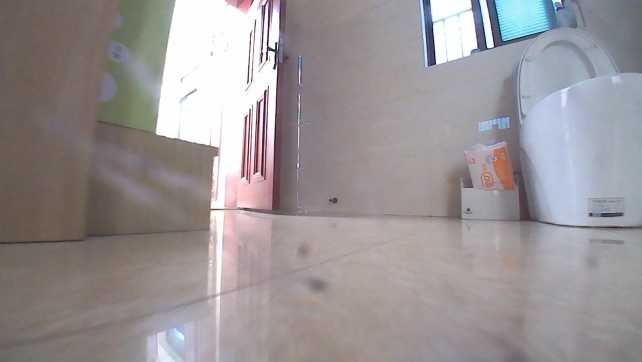door_anno: (221, 0, 287, 211)
toilet: (514, 24, 642, 230)
